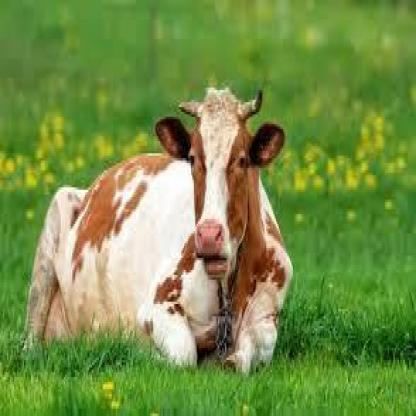cow: (27, 98, 284, 374)
